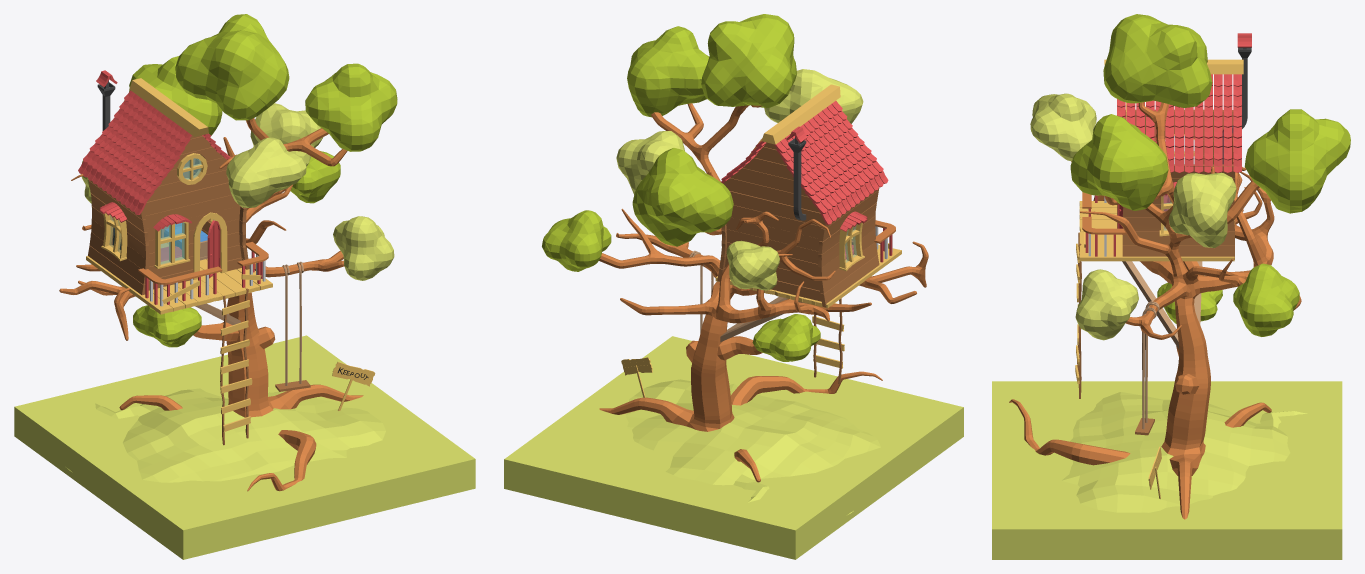
The model's file is treehouse.glb.
3 renders of one model, left to right at view 1: azimuth 30°, elevation 25°; view 2: azimuth 150°, elevation 25°; view 3: azimuth 270°, elevation 25°, orthographic. The views are drawn at different scales.
Parts seen in each view (by area): view 1: Cube.003, Plane.008, Cube.008, Plane.009, Cube.063, Cube, Cube.022, Cube.057, Cube.015; view 2: Plane.008, Cube.003, Cube.008, Plane.009, Cube.057, Cube.063; view 3: Plane.008, Cube.003, Plane.009, Cube.008, Cube.057, Cube, Cube.063.
Boxes of the visible parts, x1,y1,x2,y2 form: Cube.003: [14, 335, 475, 559]; Plane.008: [59, 14, 397, 491]; Cube.008: [78, 78, 272, 314]; Plane.009: [66, 388, 385, 482]; Cube.063: [220, 288, 252, 445]; Cube: [282, 261, 303, 385]; Cube.022: [332, 362, 375, 410]; Cube.057: [96, 70, 117, 130]; Cube.015: [207, 220, 220, 278]; Plane.008: [542, 14, 928, 482]; Cube.003: [504, 336, 963, 559]; Cube.008: [715, 84, 901, 308]; Plane.009: [626, 379, 880, 514]; Cube.057: [786, 126, 807, 220]; Cube.063: [812, 298, 844, 383]; Plane.008: [1009, 14, 1350, 519]; Cube.003: [992, 381, 1342, 559]; Plane.009: [1061, 392, 1307, 512]; Cube.008: [1079, 59, 1243, 261]; Cube.057: [1222, 33, 1251, 164]; Cube: [1142, 301, 1159, 429]; Cube.063: [1075, 232, 1081, 398].
Size of the model in its own units: 35.11 by 45.01 by 31.82.
